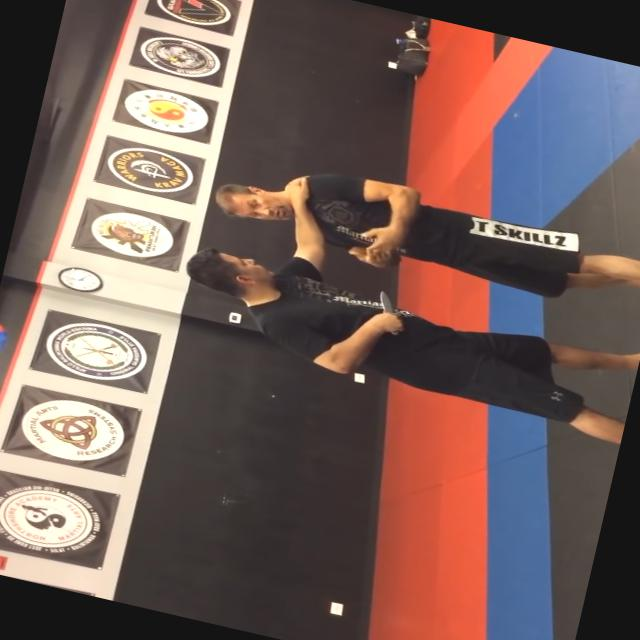knife: (366, 288, 413, 338)
